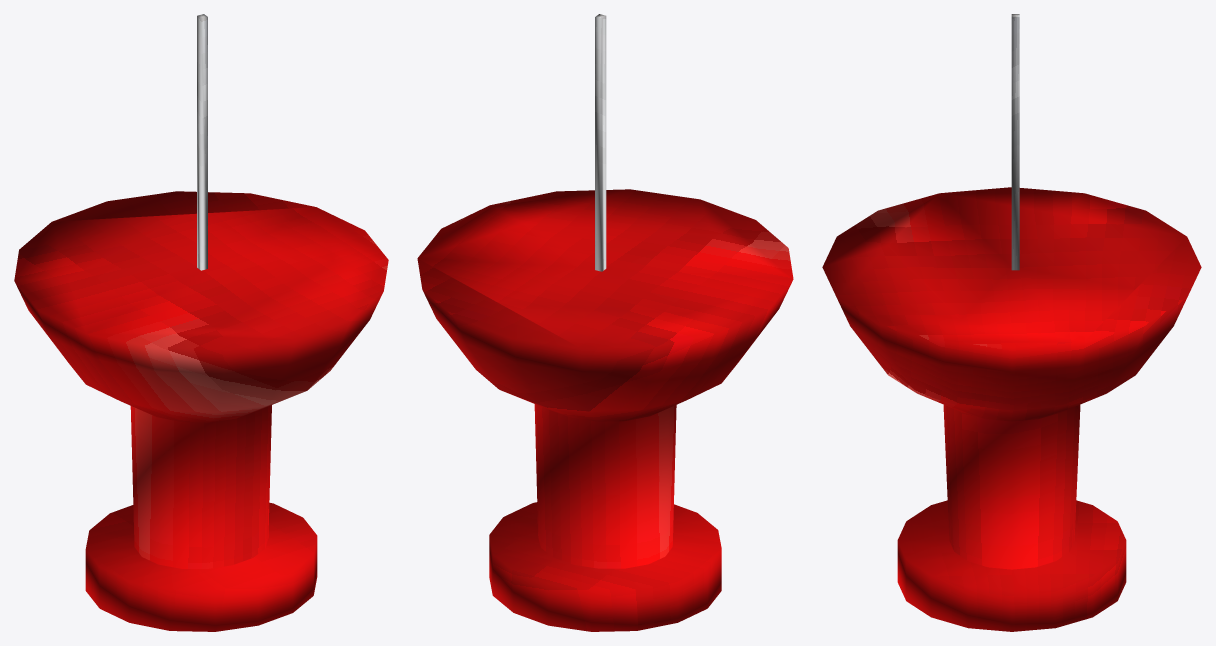
The model's file is WorldItem-HC_Thumbtack.fbx.
The picture shows the model from 3 angles, left to right: view 1: azimuth 30°, elevation 25°; view 2: azimuth 150°, elevation 25°; view 3: azimuth 270°, elevation 25°; orthographic projection.
Parts seen in each view (by area): view 1: Thumbtack; view 2: Thumbtack; view 3: Thumbtack.
Boxes of the visible parts, x1=… form: Thumbtack: x1=14, y1=14, x2=388, y2=631; Thumbtack: x1=417, y1=14, x2=793, y2=631; Thumbtack: x1=822, y1=14, x2=1201, y2=631.
Bounding box in the file's own units: 0.0257 × 0.0426 × 0.0257.
